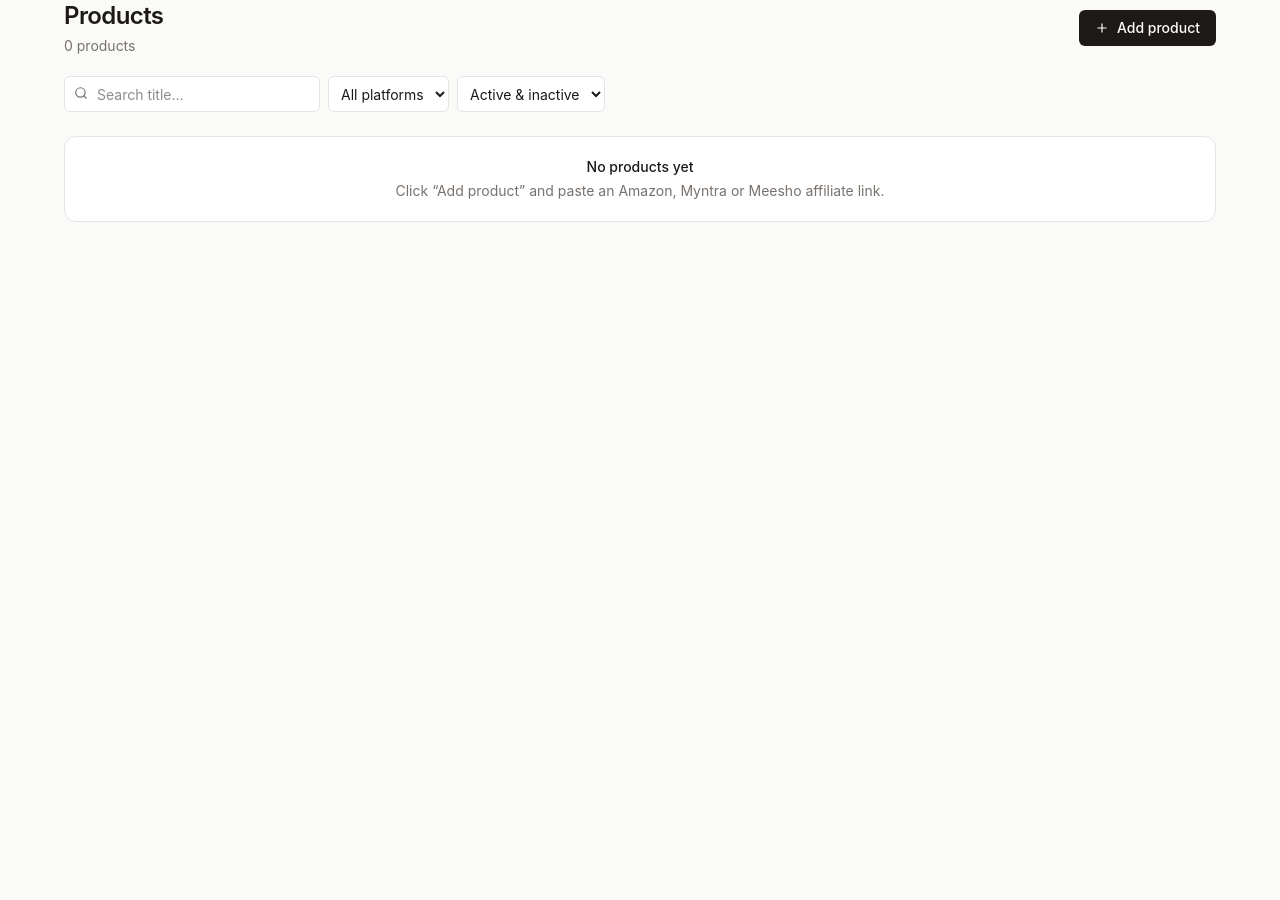
Test: Products page › extraction failure explains why and still allows manual save
Later steps or results of the test are not shown.
Click the button "Add product" at (1148,28), box top-left (1079, 10), bottom-right (1216, 46)
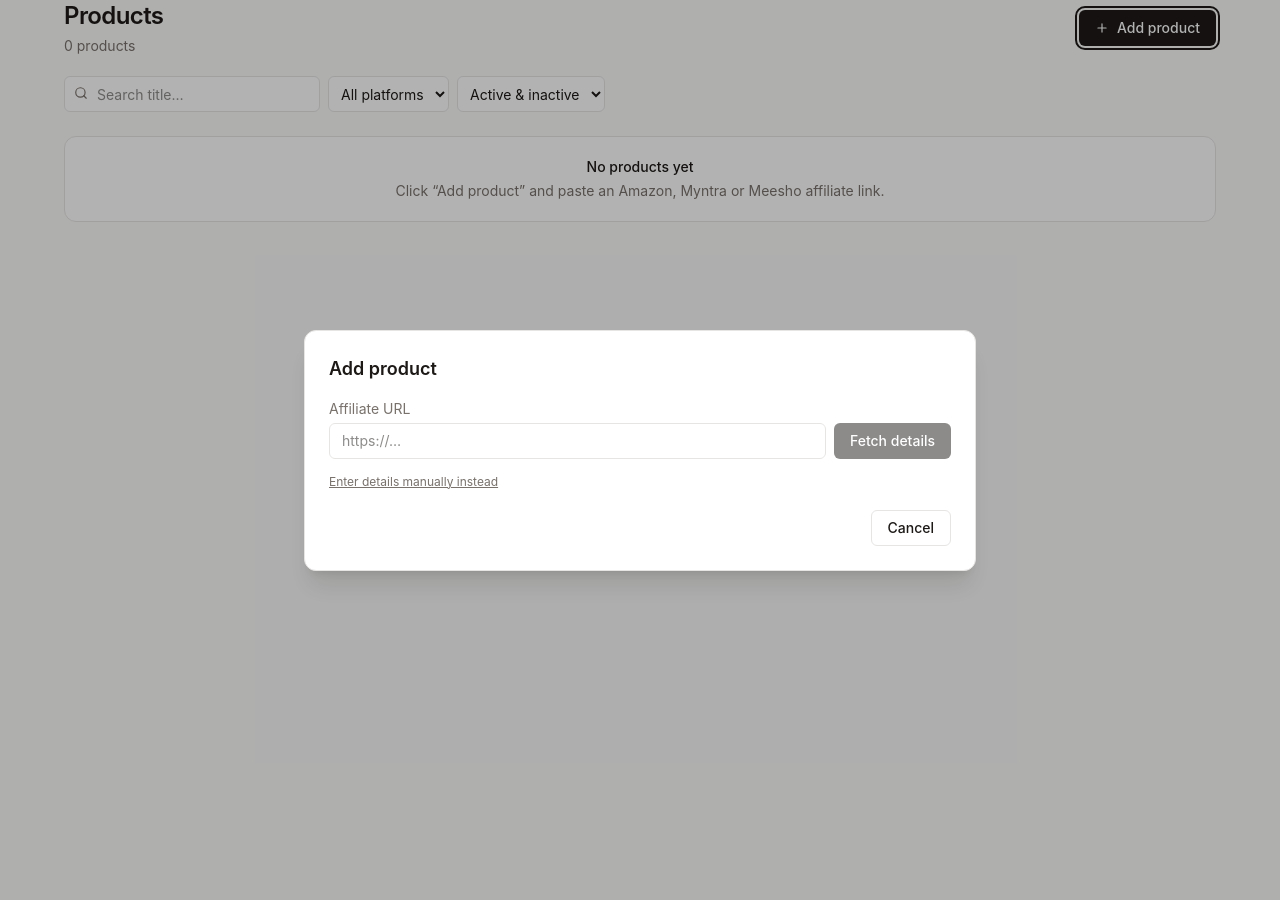
Type "https://www.amazon.in/dp/B0ABCDEFGH" into the field labelled "Affiliate URL" at (577,440), box top-left (329, 422), bottom-right (826, 458)
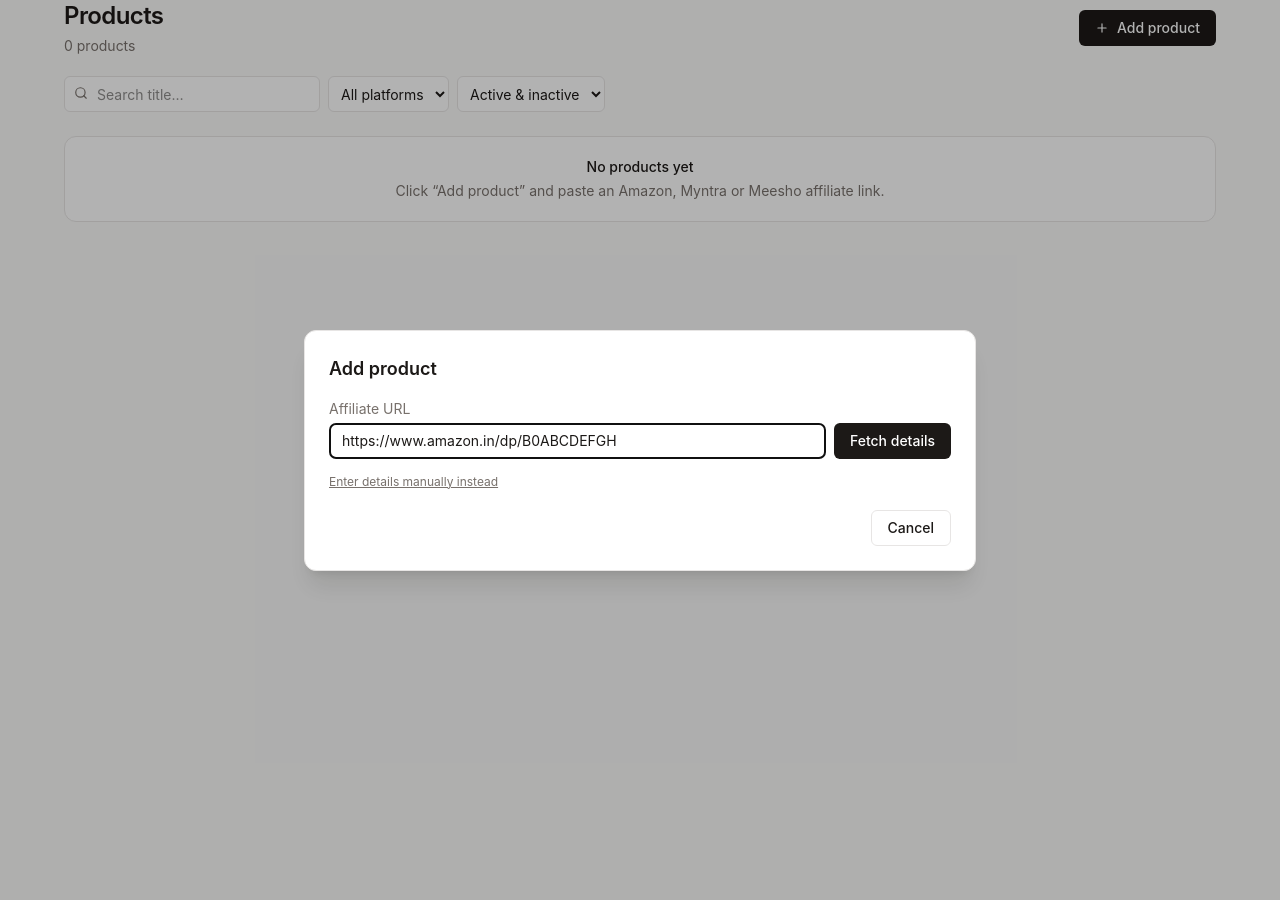
Click the button "Fetch details" at (892,440), box top-left (834, 422), bottom-right (951, 458)
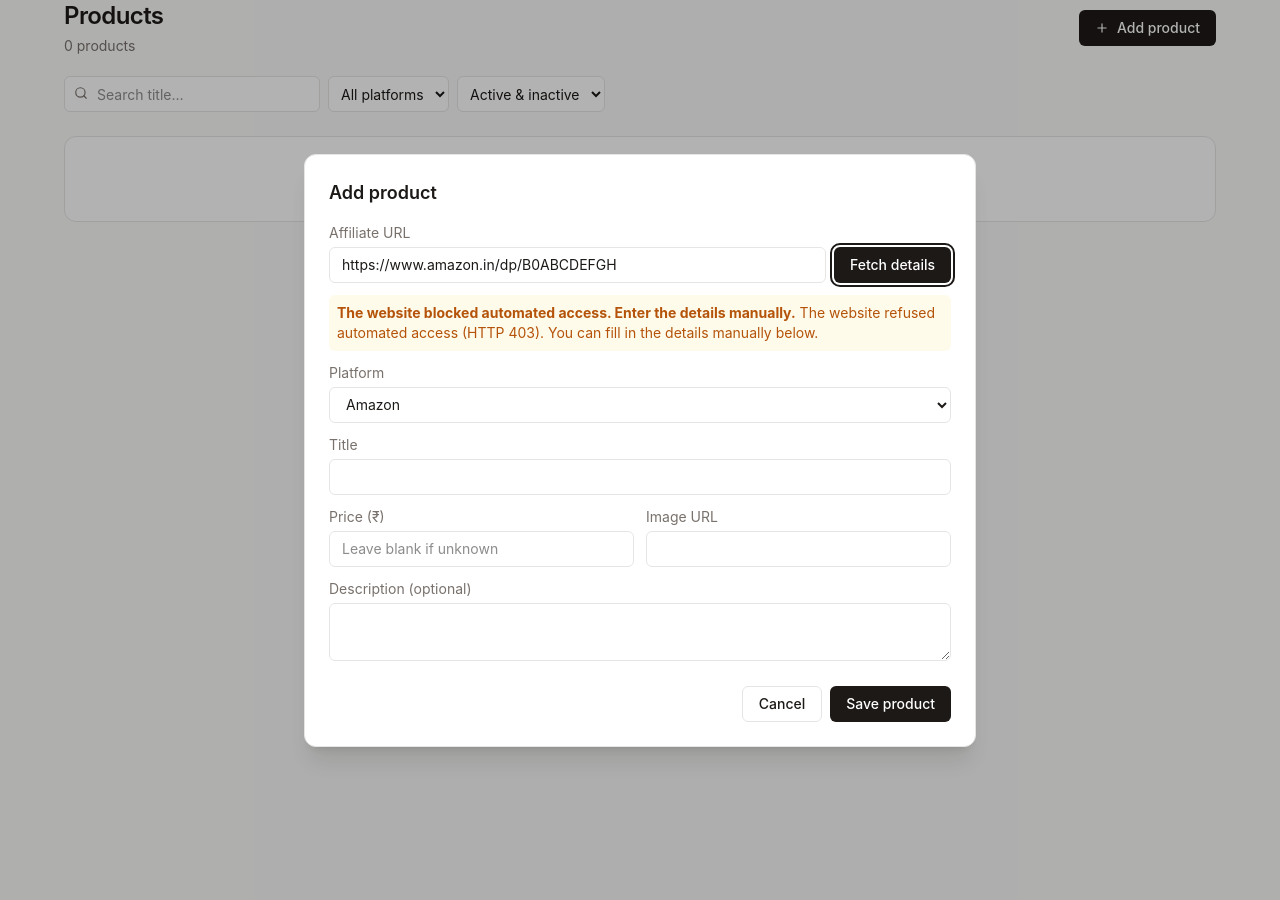
Result: the text "blocked automated access" is shown at top-left (337, 304), bottom-right (796, 320)
